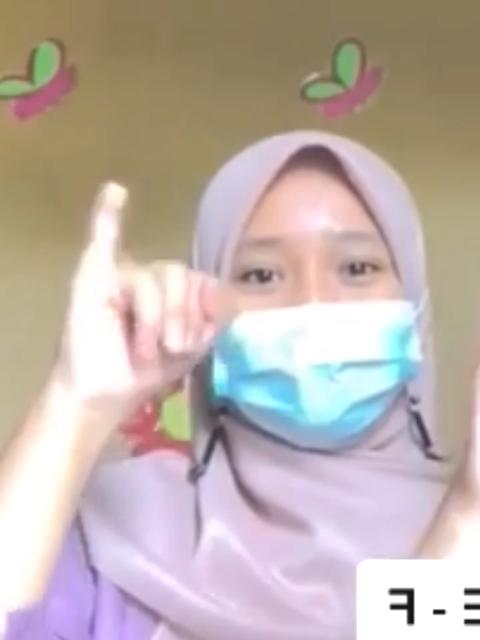I: (62, 184, 242, 410)
